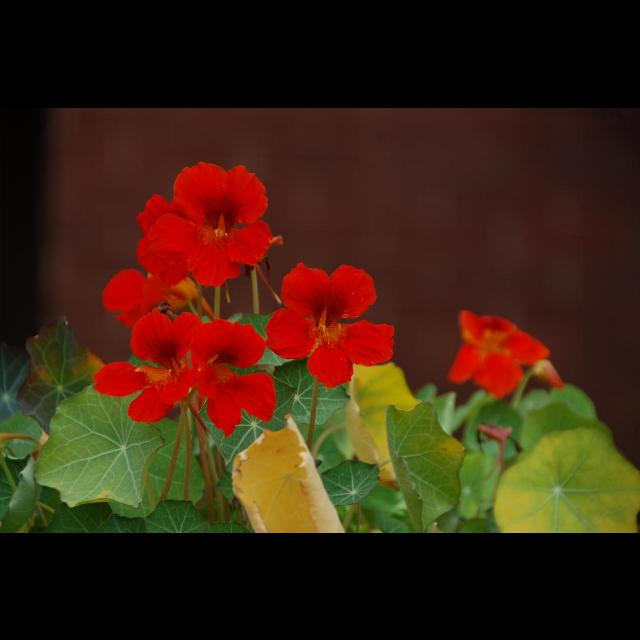Flower: (134, 164, 288, 290), (262, 264, 401, 388), (94, 306, 216, 428), (170, 318, 284, 434), (448, 307, 554, 401)
